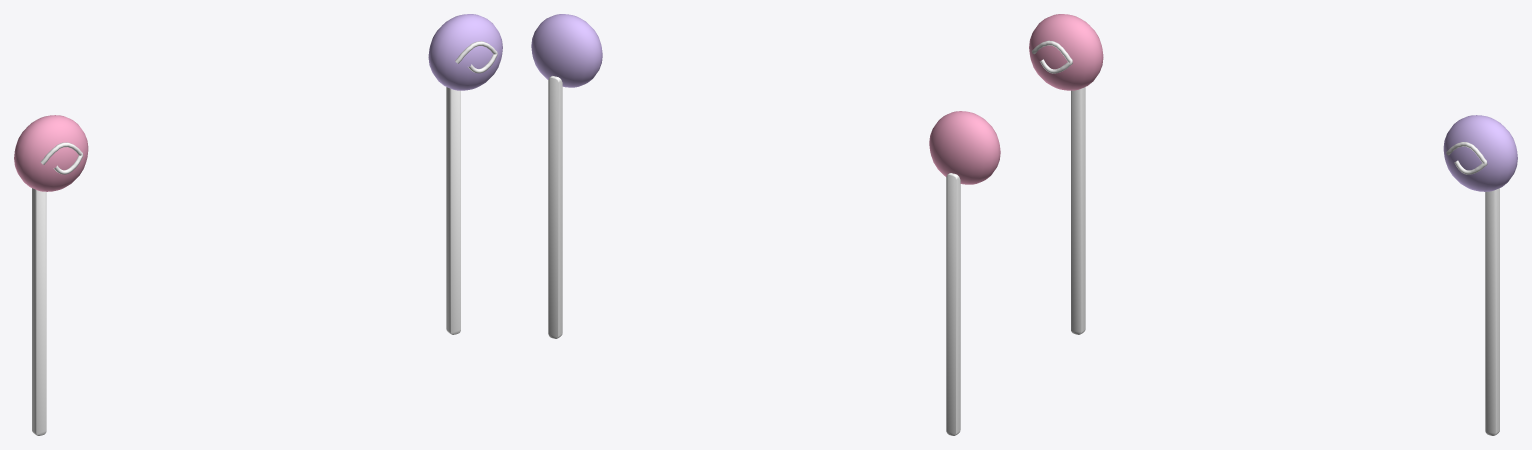
File: decor_2_classic.glb
3 renders of one model, left to right at view 1: azimuth 30°, elevation 25°; view 2: azimuth 150°, elevation 25°; view 3: azimuth 330°, elevation 25°, orthographic. The views are drawn at different scales.
Parts seen in each view (by area): view 1: decor_2_classic; view 2: decor_2_classic; view 3: decor_2_classic.
Part boxes in pixels (x1,y1,x2,y2): decor_2_classic: (14, 14, 502, 435); decor_2_classic: (531, 14, 1000, 435); decor_2_classic: (1029, 14, 1517, 435).
Bounding box in the file's own units: 28 × 18.02 × 2.99.
